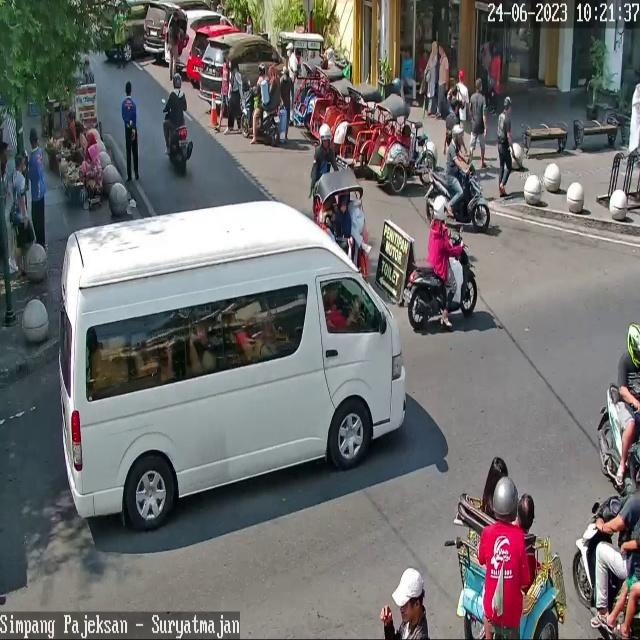bus: (572, 495, 640, 640), (408, 235, 478, 328), (597, 382, 640, 491), (425, 160, 488, 230), (240, 87, 280, 146), (169, 125, 193, 177)
car: (58, 203, 404, 531)
motorcycle: (201, 34, 281, 104), (164, 9, 233, 67), (144, 0, 212, 54), (186, 24, 242, 82), (100, 0, 150, 64)
